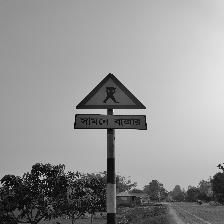Market-in-front: (74, 73, 147, 130)
